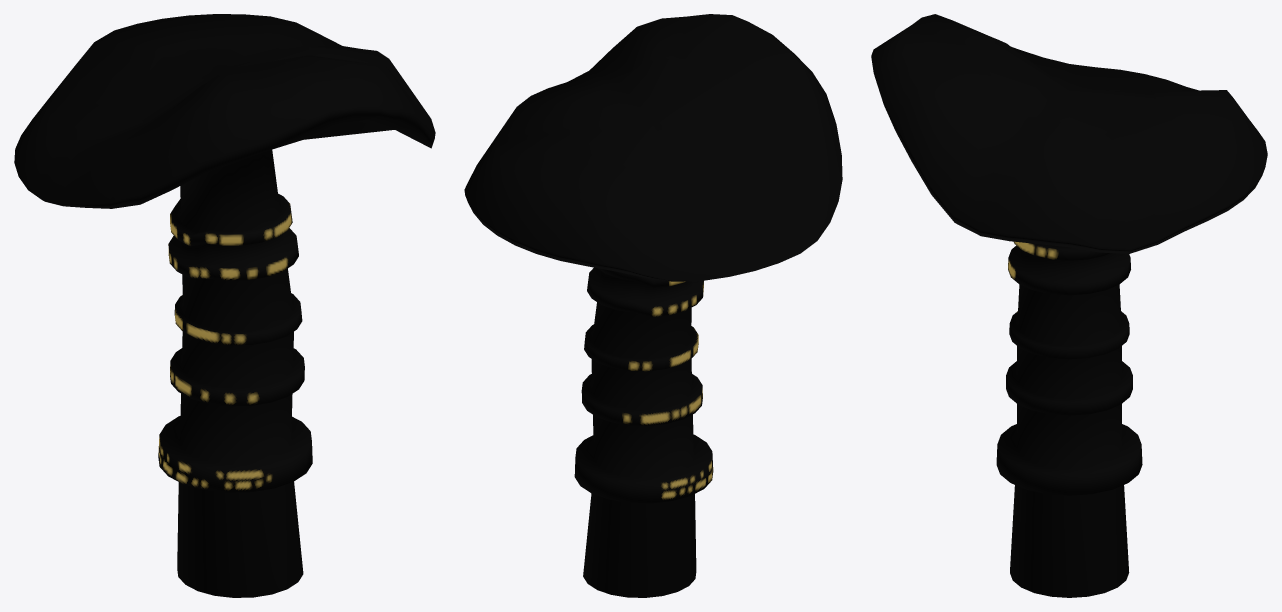
File: Mushroom_03.fbx
3 renders of one model, left to right at view 1: azimuth 30°, elevation 25°; view 2: azimuth 150°, elevation 25°; view 3: azimuth 270°, elevation 25°, orthographic. The views are drawn at different scales.
Parts seen in each view (by area): view 1: lowpoly_mushroom01; view 2: lowpoly_mushroom01; view 3: lowpoly_mushroom01.
Boxes of the visible parts, x1=… form: lowpoly_mushroom01: x1=14, y1=14, x2=435, y2=597; lowpoly_mushroom01: x1=464, y1=14, x2=842, y2=597; lowpoly_mushroom01: x1=871, y1=14, x2=1267, y2=597.
Size of the model in its own units: 4.52 by 6.65 by 4.52.
